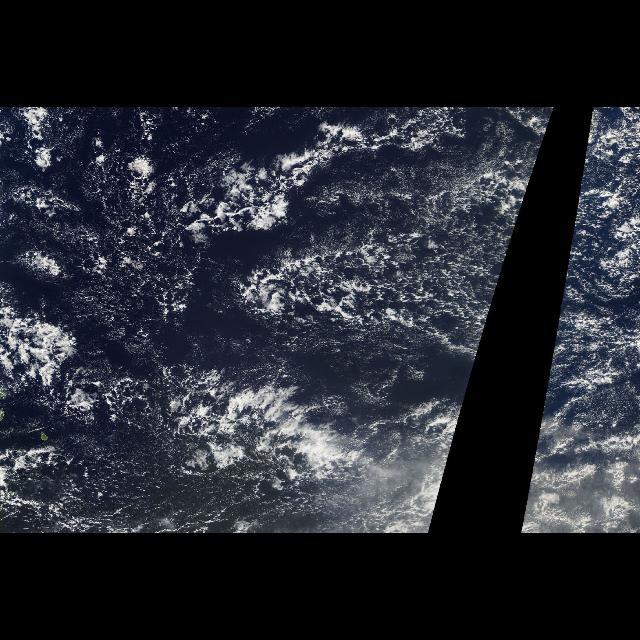Gravel: (1, 107, 556, 533), (520, 107, 640, 533)
